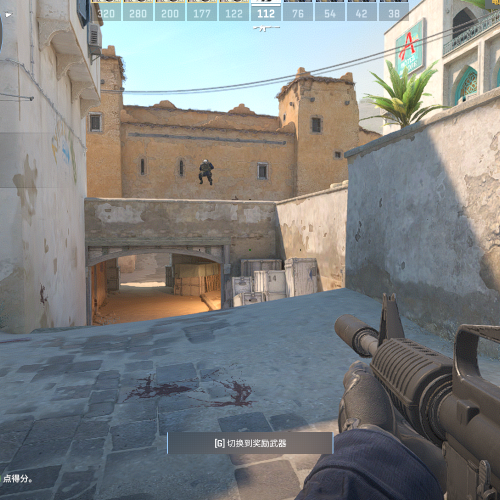ct_body: (198, 158, 214, 185)
